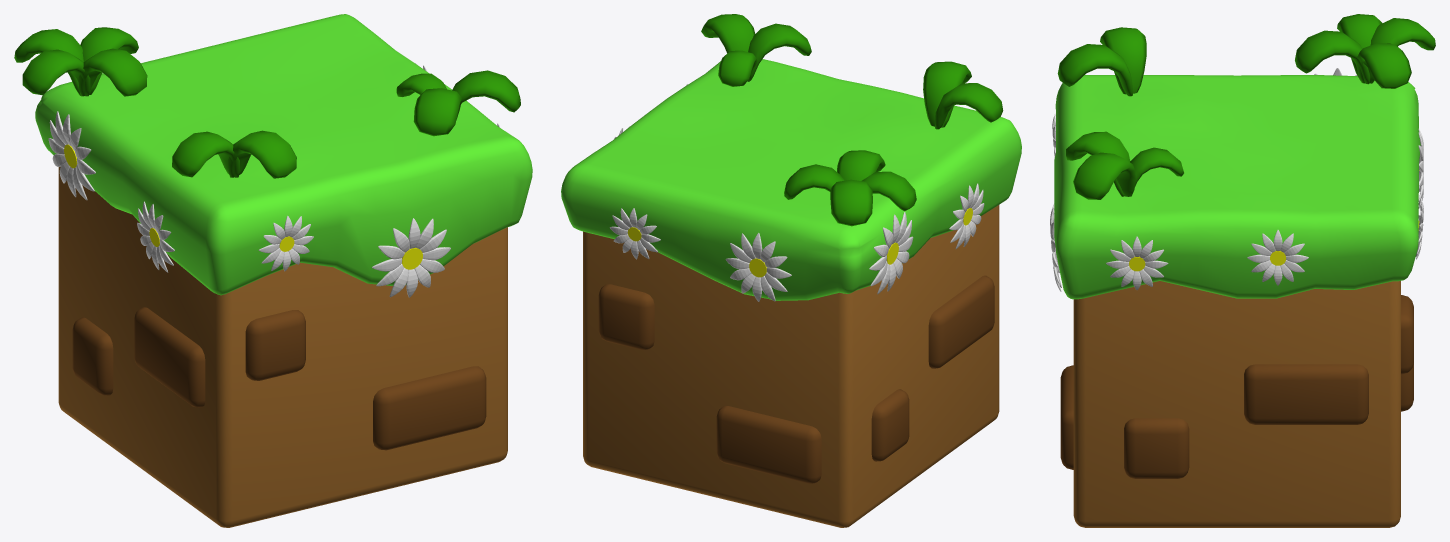
The model's file is tile_4.fbx.
3 renders of one model, left to right at view 1: azimuth 30°, elevation 25°; view 2: azimuth 150°, elevation 25°; view 3: azimuth 270°, elevation 25°, orthographic. The views are drawn at different scales.
Parts seen in each view (by area): view 1: tile4; view 2: tile4; view 3: tile4.
Boxes of the visible parts, bbox=[...] form: tile4: bbox=[14, 14, 532, 527]; tile4: bbox=[561, 14, 1021, 527]; tile4: bbox=[1050, 14, 1435, 527].
Size of the model in its own units: 248 by 249 by 236.
